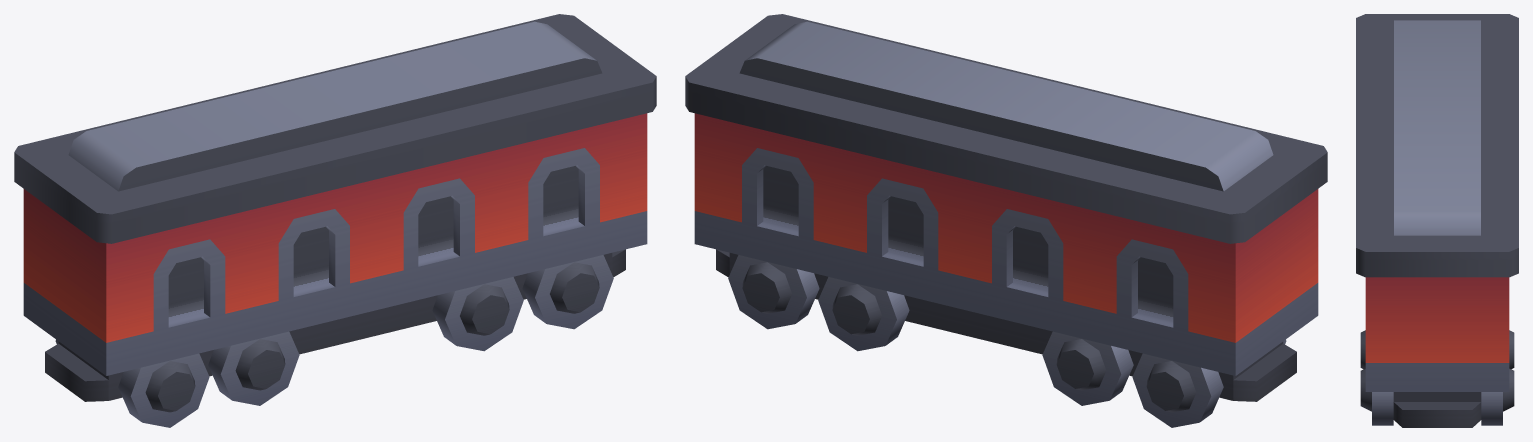
Rendered from train-wagon.obj.
3 views of the same model, side by side, from view 1: azimuth 30°, elevation 25°; view 2: azimuth 150°, elevation 25°; view 3: azimuth 270°, elevation 25° (orthographic). The views are drawn at different scales.
Visible parts, largest first — view 1: train-wagon; view 2: train-wagon; view 3: train-wagon.
Boxes of the visible parts, box(x1,y1,x2,y2) form: train-wagon: box(14, 14, 656, 427); train-wagon: box(685, 14, 1327, 427); train-wagon: box(1356, 14, 1518, 427).
Size of the model in its own units: 0.7154 by 0.313 by 0.207.
1 material, 1 textured.
